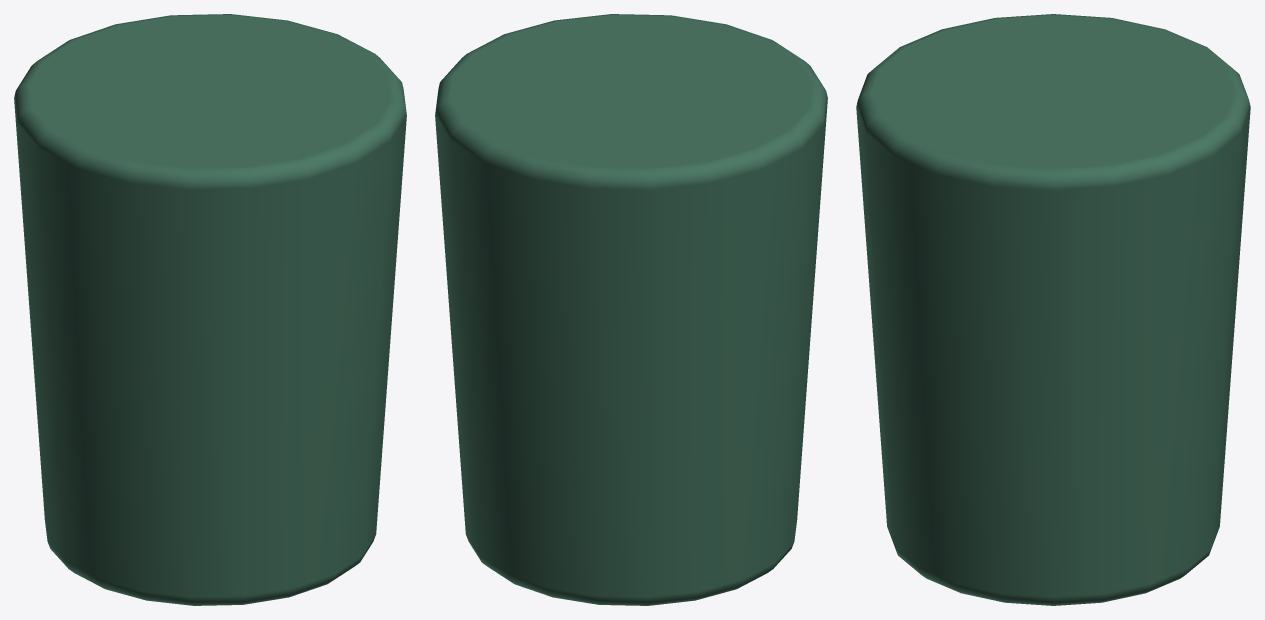
The model's file is bin.glb.
The picture shows the model from 3 angles, left to right: view 1: azimuth 30°, elevation 25°; view 2: azimuth 150°, elevation 25°; view 3: azimuth 270°, elevation 25°; orthographic projection.
Visible parts, largest first — view 1: bin.001; view 2: bin.001; view 3: bin.001.
Part boxes in pixels (box(x1,y1,x2,y2)): bin.001: box(14, 14, 406, 605); bin.001: box(435, 14, 827, 605); bin.001: box(856, 14, 1250, 605).
Bounding box in the file's own units: 0.4773 × 0.6 × 0.4773.
